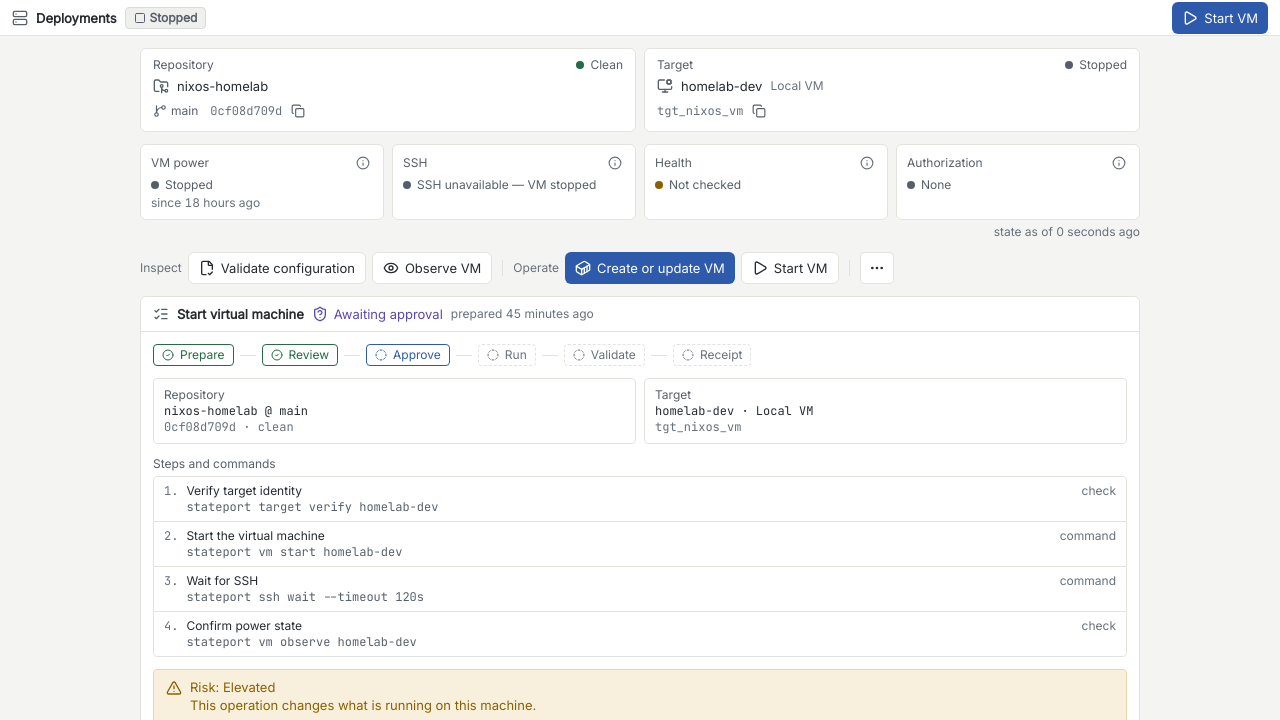
it: DeploymentsTool — plan workflow › keeps plan and run separate: preparing shows review, not progress
The image size is (1280, 720).
expect the element with test id "actions-row" is shown: met, box [140,252,894,284]
Click the button with test id "op-observe" at (432, 268), box [372,252,492,284]
(page scrolled)
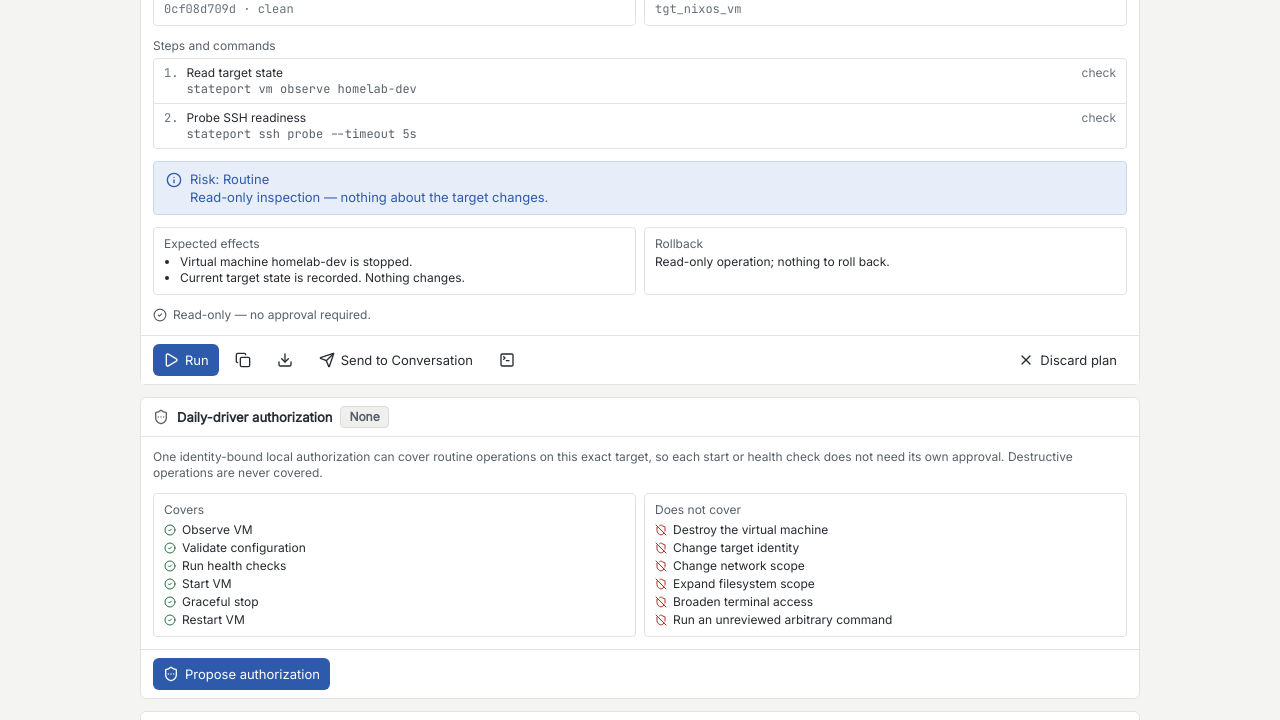
expect the button with test id "plan-run" is shown: met, box [153,344,219,376]
expect the text "Read-only — no approval required." is shown: met, box [153,307,371,322]
